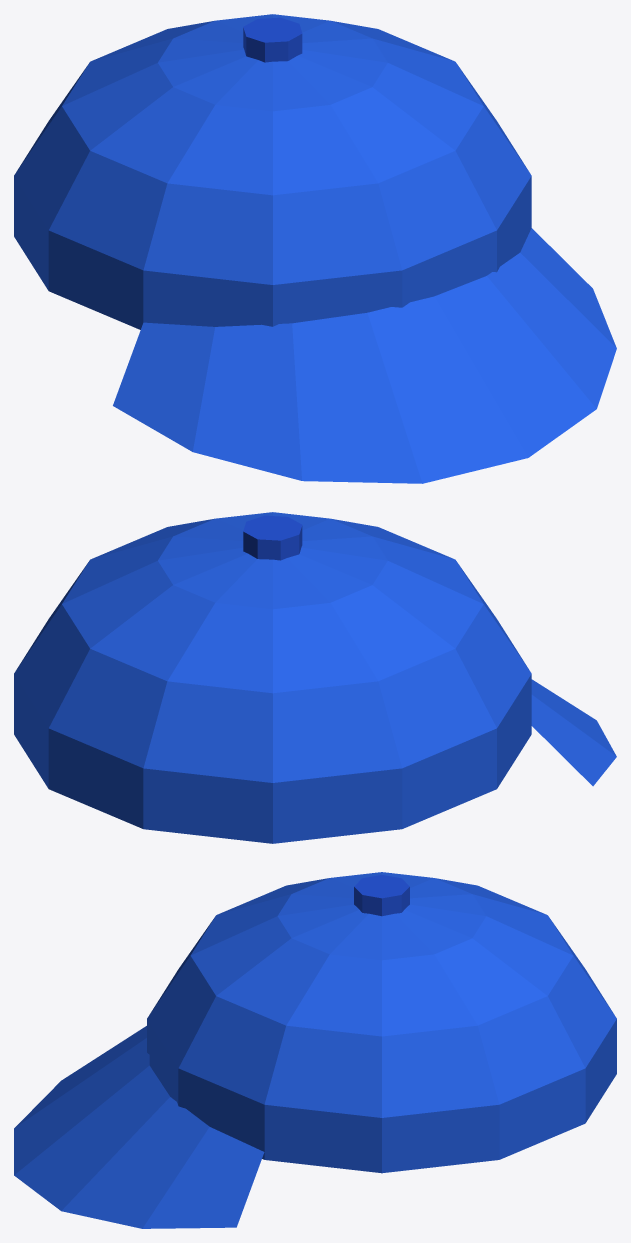
Rendered from hat_01_cap_blue.glb.
The picture shows the model from 3 angles, top to bottom: view 1: azimuth 30°, elevation 25°; view 2: azimuth 150°, elevation 25°; view 3: azimuth 270°, elevation 25°; orthographic projection. The views are drawn at different scales.
Parts seen in each view (by area): view 1: Hat01_Crown, Hat01_Visor, Hat01_Button; view 2: Hat01_Crown, Hat01_Visor, Hat01_Button; view 3: Hat01_Crown, Hat01_Visor, Hat01_Button.
Part boxes in pixels (bbox=[...]): Hat01_Crown: bbox=[14, 14, 531, 329]; Hat01_Visor: bbox=[113, 228, 616, 483]; Hat01_Button: bbox=[243, 17, 302, 62]; Hat01_Crown: bbox=[14, 512, 531, 843]; Hat01_Visor: bbox=[531, 679, 616, 786]; Hat01_Button: bbox=[243, 515, 302, 560]; Hat01_Crown: bbox=[147, 872, 616, 1173]; Hat01_Visor: bbox=[14, 1026, 264, 1228]; Hat01_Button: bbox=[354, 875, 409, 916].
Size of the model in its own units: 0.5785 by 0.3365 by 0.6928.
